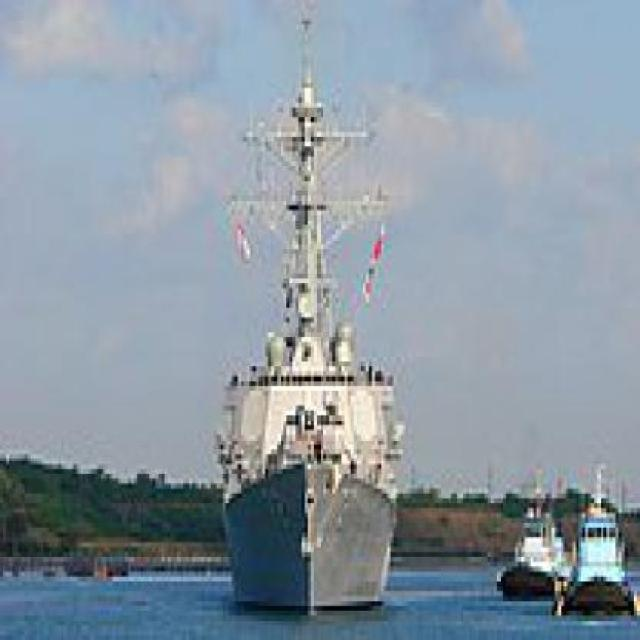warship2: (201, 1, 423, 623)
